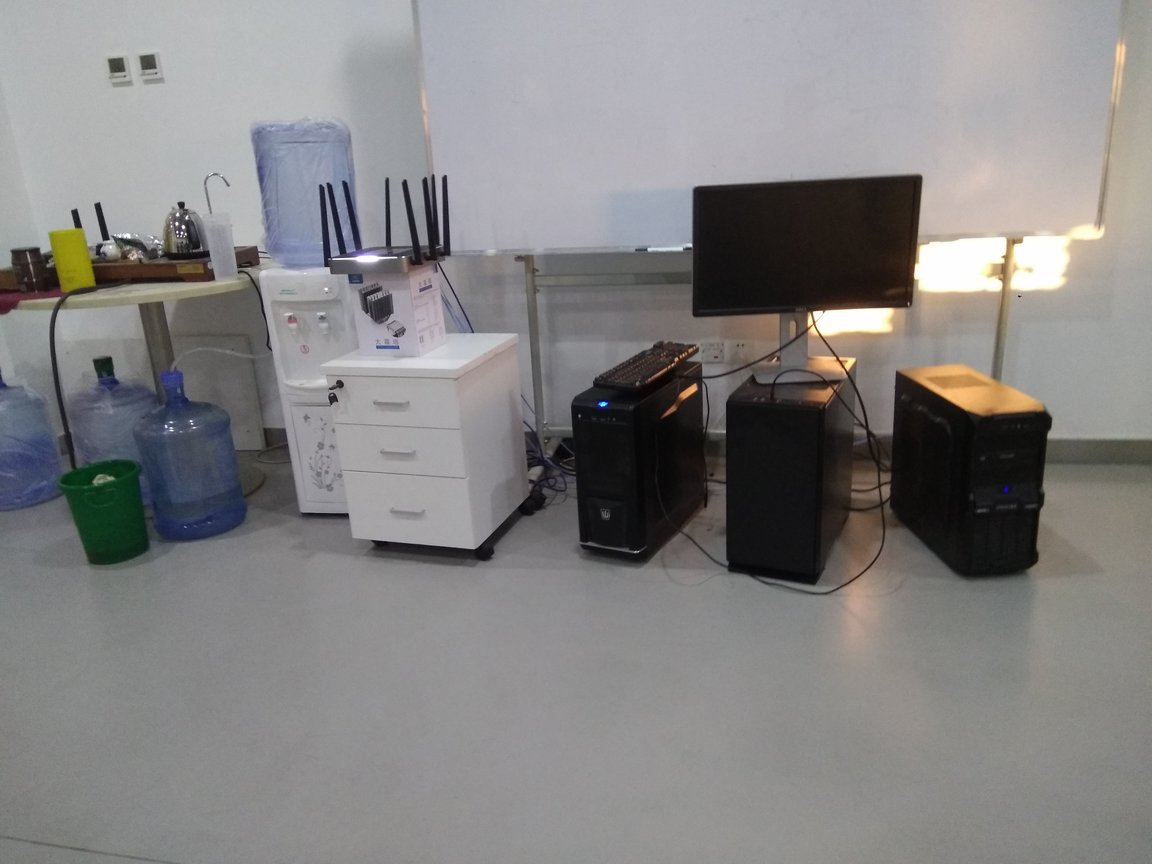computer: (900, 361, 1046, 588), (725, 354, 858, 594), (572, 358, 702, 573)
drawer chest: (327, 326, 548, 576)
monitor: (685, 174, 927, 393)
scuttlebutt: (136, 371, 254, 550), (249, 116, 368, 280), (77, 356, 172, 536), (1, 383, 72, 516)
water dispenser: (247, 256, 393, 526)
